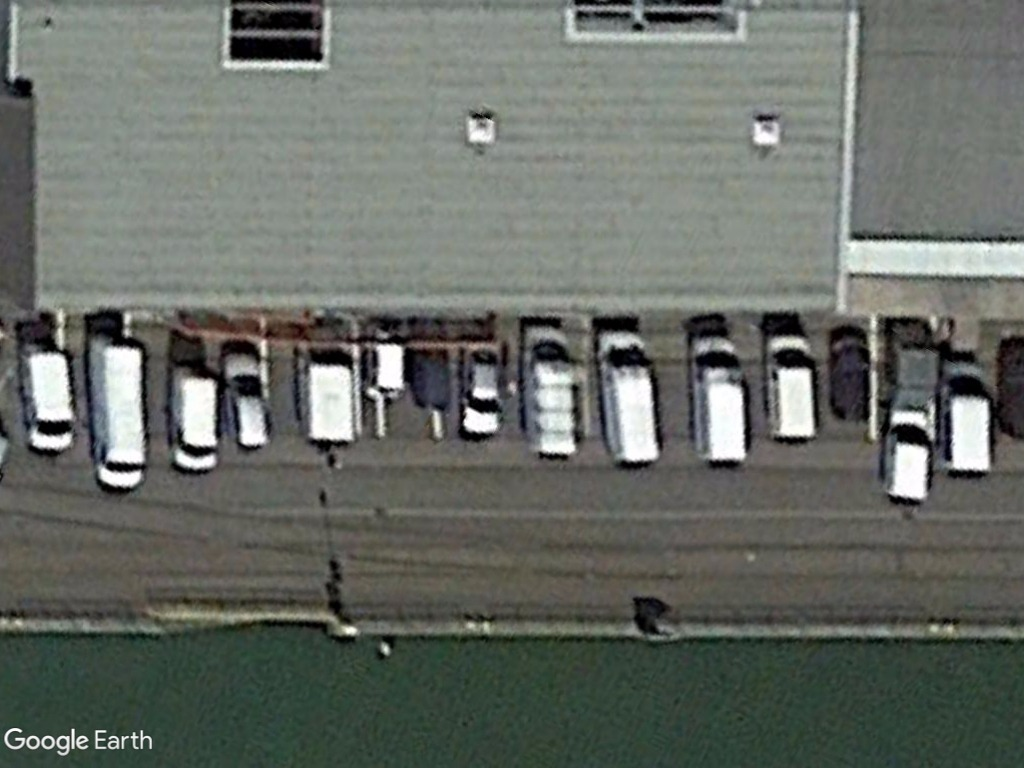car: (219, 346, 276, 458)
van: (590, 321, 666, 473), (85, 335, 152, 497), (519, 319, 585, 466), (685, 333, 754, 471), (756, 326, 822, 450), (937, 352, 999, 482), (14, 344, 76, 459), (164, 361, 225, 476), (881, 400, 940, 513)
